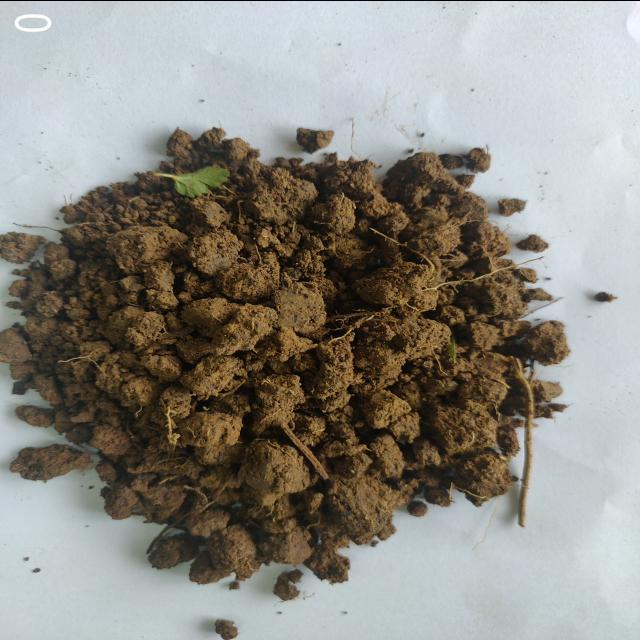soil: (91, 228, 469, 488)
